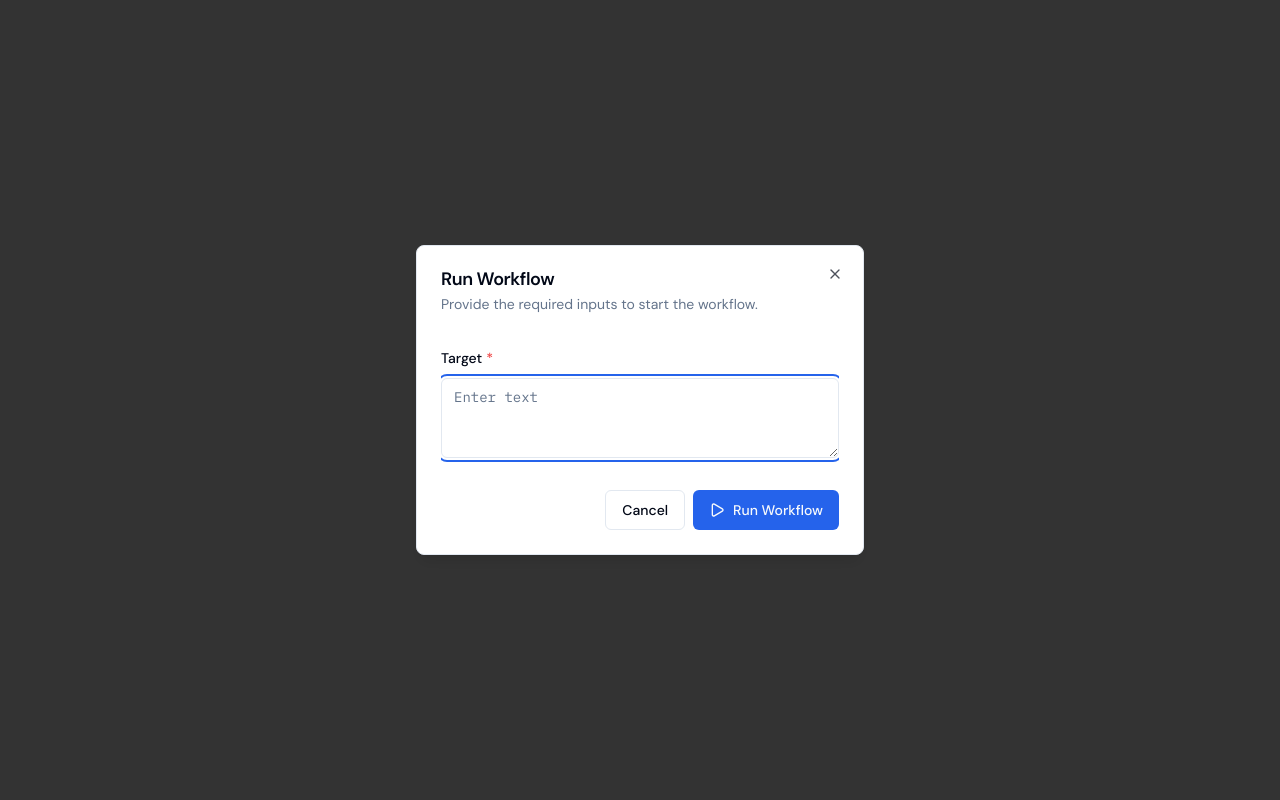
Test case: RunWorkflowDialog › validates required fields and shows error on submit
The image size is (1280, 800).
The second "Run Workflow" is the button in the footer
What coordinates should you click on to do the following:
click the button "Run Workflow"
I would click on:
 (766, 510)
Its box is [693,490,839,530].
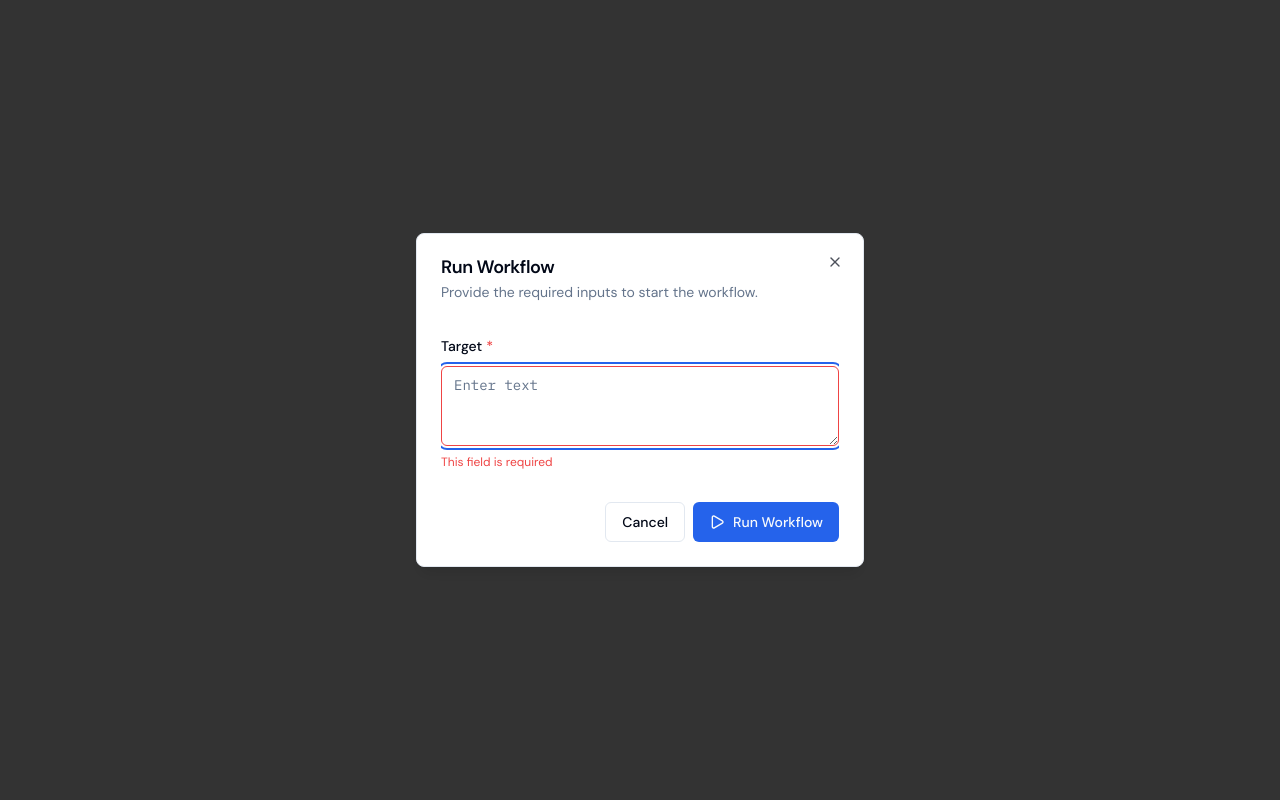
Expected: the text "This field is required" is shown, [441,454,553,470]
